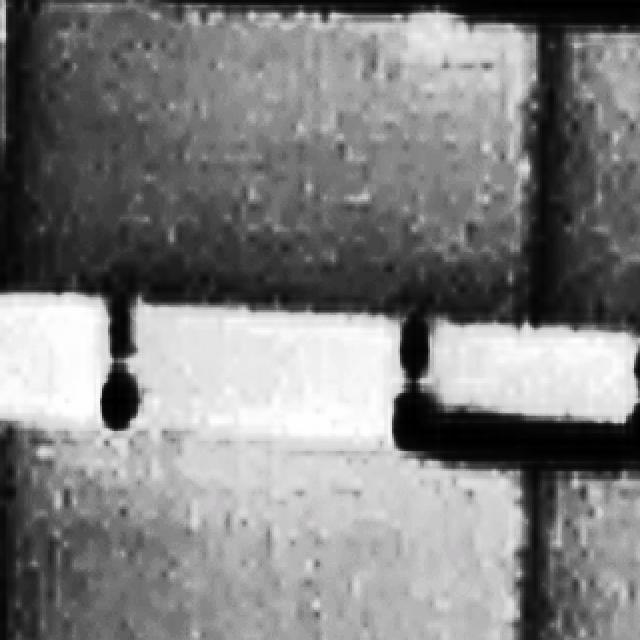Hotspots: (388, 0, 478, 66)
PV-modules: (3, 0, 546, 326), (0, 411, 536, 640), (537, 4, 640, 325), (523, 465, 640, 640)
